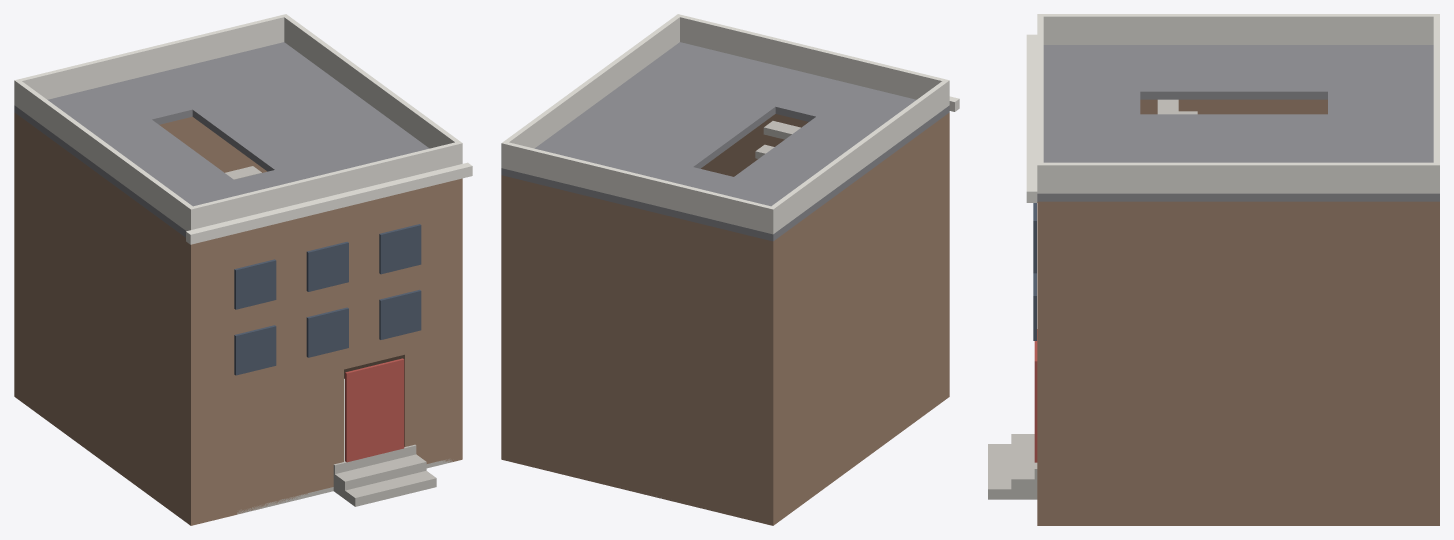
File: Brownstone_Enterable.glb
The picture shows the model from 3 angles, left to right: view 1: azimuth 30°, elevation 25°; view 2: azimuth 150°, elevation 25°; view 3: azimuth 270°, elevation 25°; orthographic projection. The views are drawn at different scales.
Visible parts, largest first — view 1: Brownstone_Enterable; view 2: Brownstone_Enterable; view 3: Brownstone_Enterable.
Part boxes in pixels (box(x1,y1,x2,y2)): Brownstone_Enterable: box(14, 14, 472, 525); Brownstone_Enterable: box(501, 14, 959, 525); Brownstone_Enterable: box(988, 14, 1439, 525).
Size of the model in its own units: 8.3 by 8.9 by 10.1.
